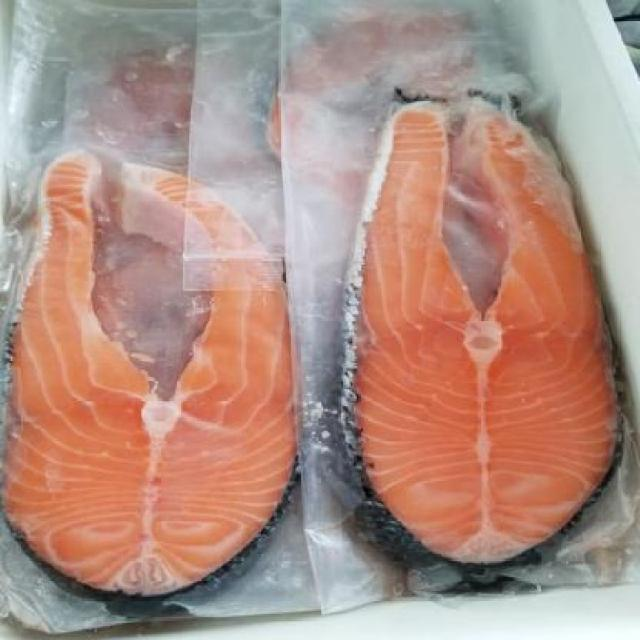salmon: (331, 70, 640, 578), (11, 114, 301, 605)
